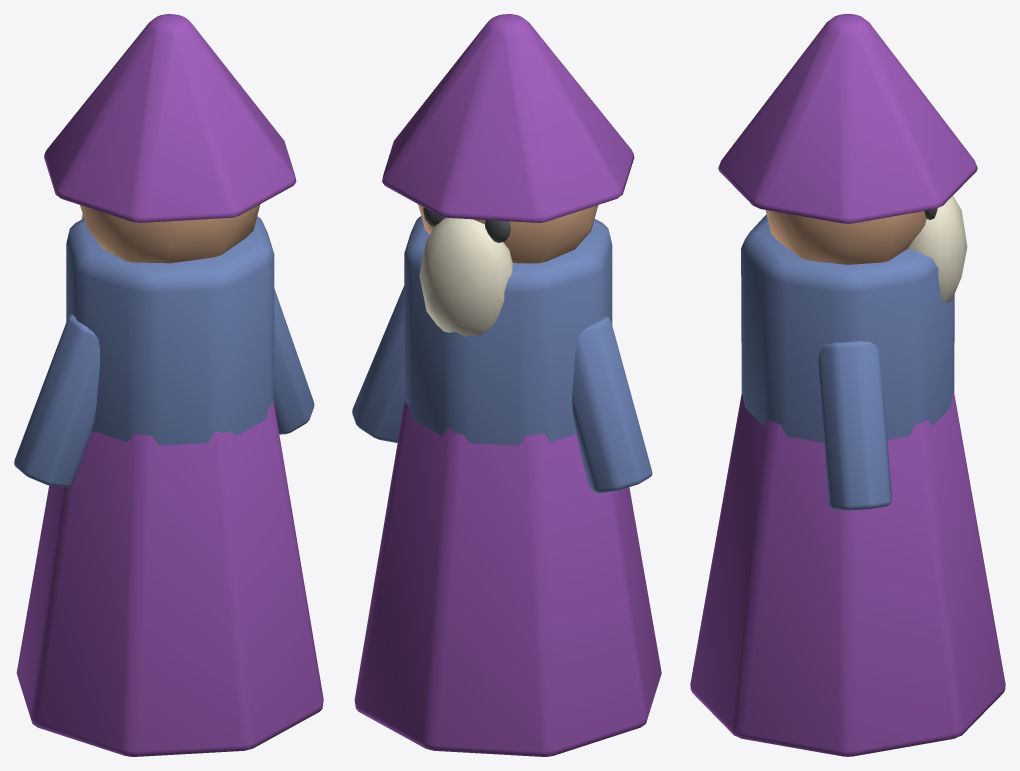
The model's file is wizard.glb.
The picture shows the model from 3 angles, left to right: view 1: azimuth 30°, elevation 25°; view 2: azimuth 150°, elevation 25°; view 3: azimuth 270°, elevation 25°; orthographic projection.
Visible parts, largest first — view 1: wizard_robe, wizard_torso, wizard_hat, wizard_arm_-1, wizard_head, wizard; view 2: wizard_robe, wizard_hat, wizard_torso, wizard_arm_-1, wizard_beard, wizard, wizard_head; view 3: wizard_robe, wizard_hat, wizard_torso, wizard, wizard_head, wizard_beard.
Boxes of the visible parts, x1,y1,x2,y2 form: wizard_robe: (16, 400, 323, 756); wizard_torso: (66, 216, 274, 445); wizard_hat: (44, 14, 296, 222); wizard_arm_-1: (14, 314, 99, 487); wizard_head: (80, 204, 260, 263); wizard: (274, 288, 314, 434); wizard_robe: (354, 400, 661, 756); wizard_hat: (382, 14, 634, 222); wizard_torso: (404, 216, 612, 445); wizard_arm_-1: (572, 316, 652, 493); wizard_beard: (419, 217, 512, 336); wizard: (352, 286, 404, 442); wizard_head: (418, 204, 598, 263); wizard_robe: (690, 393, 1005, 756); wizard_hat: (718, 14, 977, 223); wizard_torso: (741, 214, 954, 442); wizard: (818, 341, 891, 510); wizard_head: (765, 210, 926, 264); wizard_beard: (907, 196, 967, 302).
Size of the model in its own units: 1.03 by 2.31 by 0.9768.
